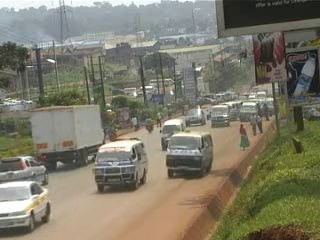Car: (0, 176, 57, 235), (0, 152, 52, 186), (183, 105, 207, 127)
Motorcycle: (141, 116, 154, 133)
